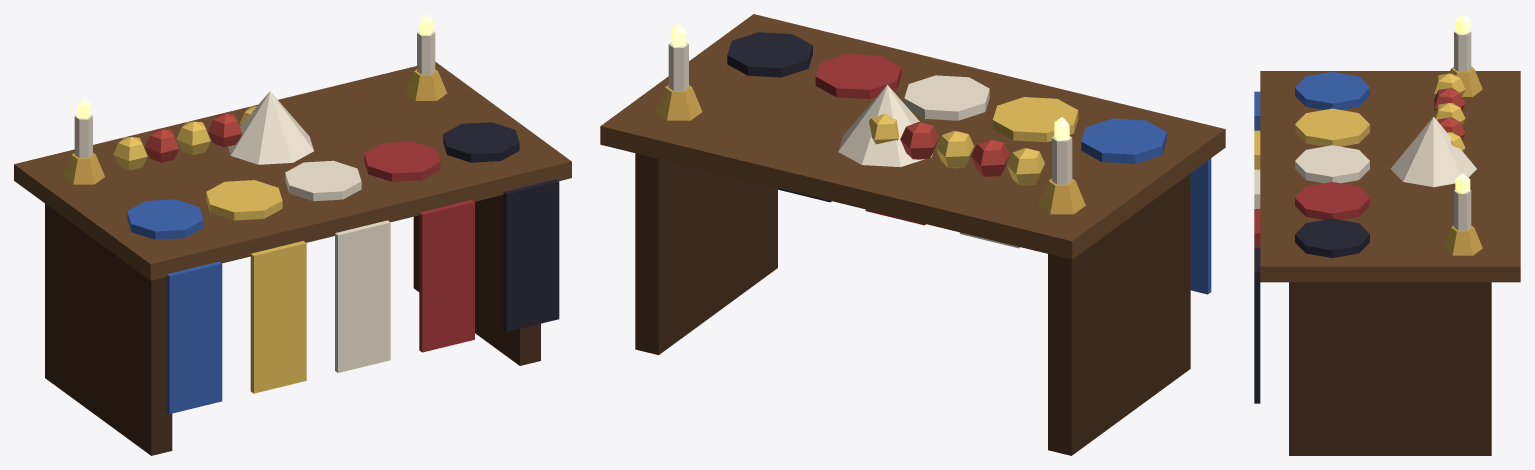
File: prop_gutsang.glb
3 renders of one model, left to right at view 1: azimuth 30°, elevation 25°; view 2: azimuth 150°, elevation 25°; view 3: azimuth 270°, elevation 25°, orthographic. The views are drawn at different scales.
Parts seen in each view (by area): view 1: prop_gutsang; view 2: prop_gutsang; view 3: prop_gutsang.
Part boxes in pixels (bbox=[...]): prop_gutsang: bbox=[14, 14, 571, 455]; prop_gutsang: bbox=[600, 14, 1225, 455]; prop_gutsang: bbox=[1254, 14, 1520, 455].
Size of the model in its own units: 1.6 by 1.04 by 0.92.
